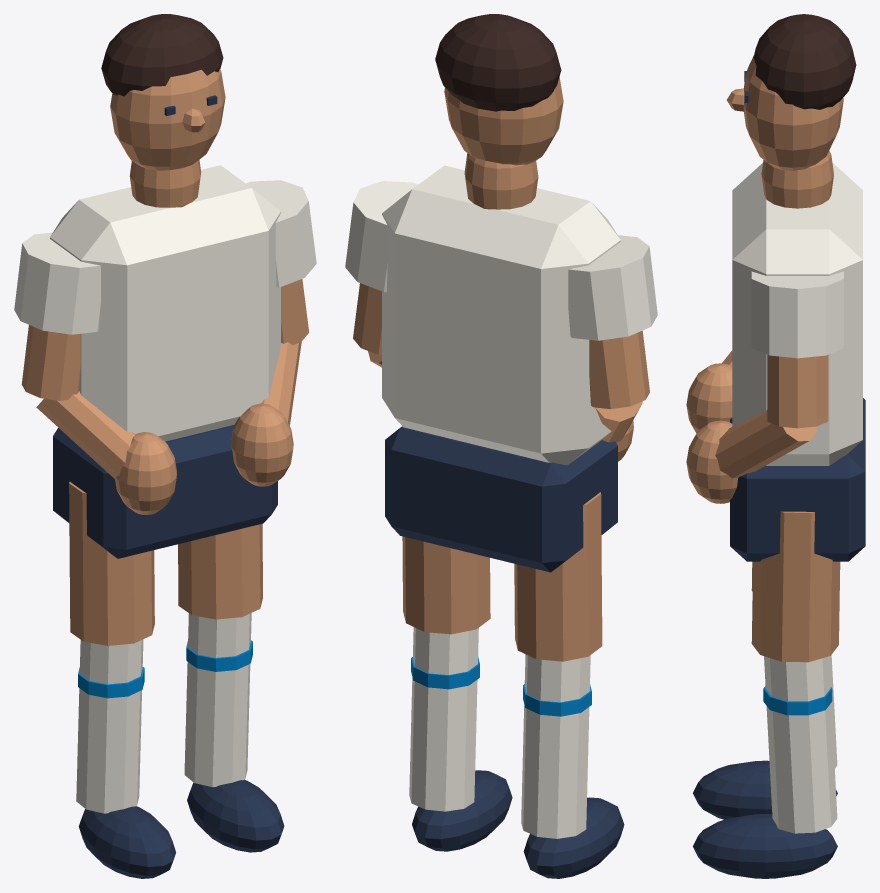
The model's file is wall_player.glb.
The picture shows the model from 3 angles, left to right: view 1: azimuth 30°, elevation 25°; view 2: azimuth 150°, elevation 25°; view 3: azimuth 270°, elevation 25°; orthographic projection. The views are drawn at different scales.
Parts seen in each view (by area): view 1: Jersey, Neck, Shorts, Hair, SockStripe; view 2: Jersey, Neck, Shorts, Hair, SockStripe; view 3: Jersey, Neck, Shorts, Hair, SockStripe.
Part boxes in pixels (x1,y1,x2,y2): Jersey: [14, 165, 316, 813]; Neck: [21, 69, 309, 645]; Shorts: [53, 95, 284, 878]; Hair: [101, 14, 223, 96]; SockStripe: [78, 640, 252, 698]; Jersey: [345, 165, 657, 838]; Neck: [353, 77, 649, 661]; Shorts: [385, 426, 624, 878]; Hair: [435, 14, 561, 111]; SockStripe: [411, 656, 591, 716]; Jersey: [732, 163, 862, 833]; Neck: [686, 55, 843, 662]; Shorts: [693, 71, 865, 878]; Hair: [753, 14, 856, 109]; SockStripe: [763, 686, 832, 715].
Bounding box in the file's own units: 0.6968 × 1.88 × 0.37.
